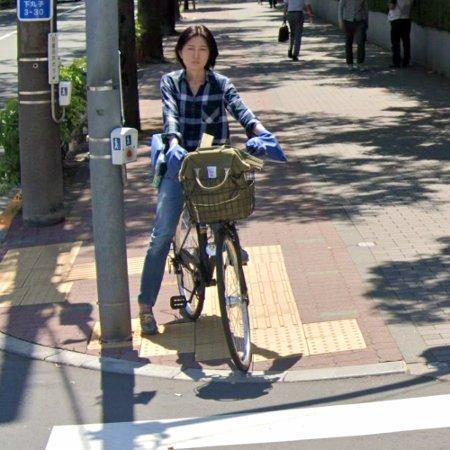bicycles: (174, 207, 253, 373)
